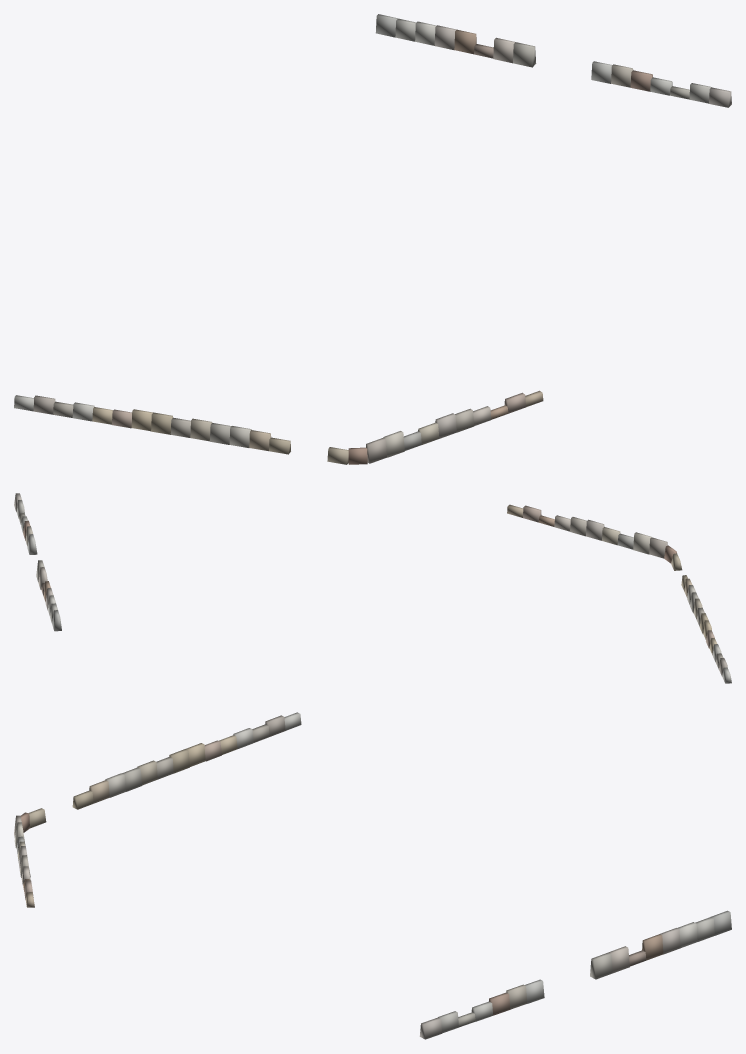
Rendered from farm_7_22_collision.glb.
The picture shows the model from 3 angles, top to bottom: view 1: azimuth 30°, elevation 25°; view 2: azimuth 150°, elevation 25°; view 3: azimuth 270°, elevation 25°; orthographic projection. The views are drawn at different scales.
Visible parts, largest first — view 1: geometry_0; view 2: geometry_0; view 3: geometry_0.
Part boxes in pixels (x1,y1,x2,y2): geometry_0: (14, 14, 731, 464); geometry_0: (14, 493, 731, 683); geometry_0: (14, 712, 731, 1039).
Bounding box in the file's own units: 67.95 × 8.33 × 53.73.
